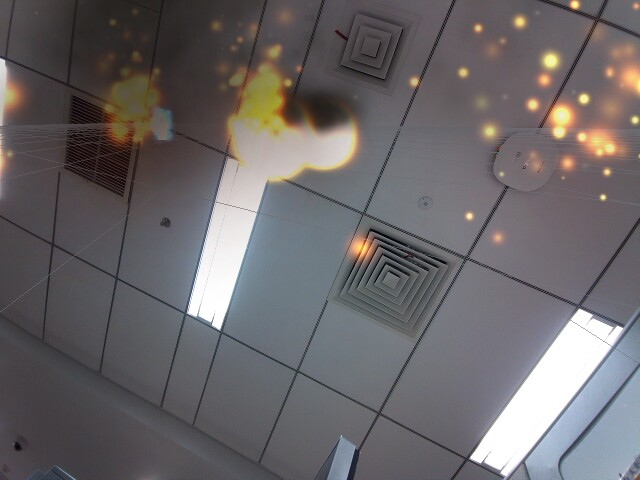fire: (226, 95, 308, 185), (286, 92, 360, 175)
